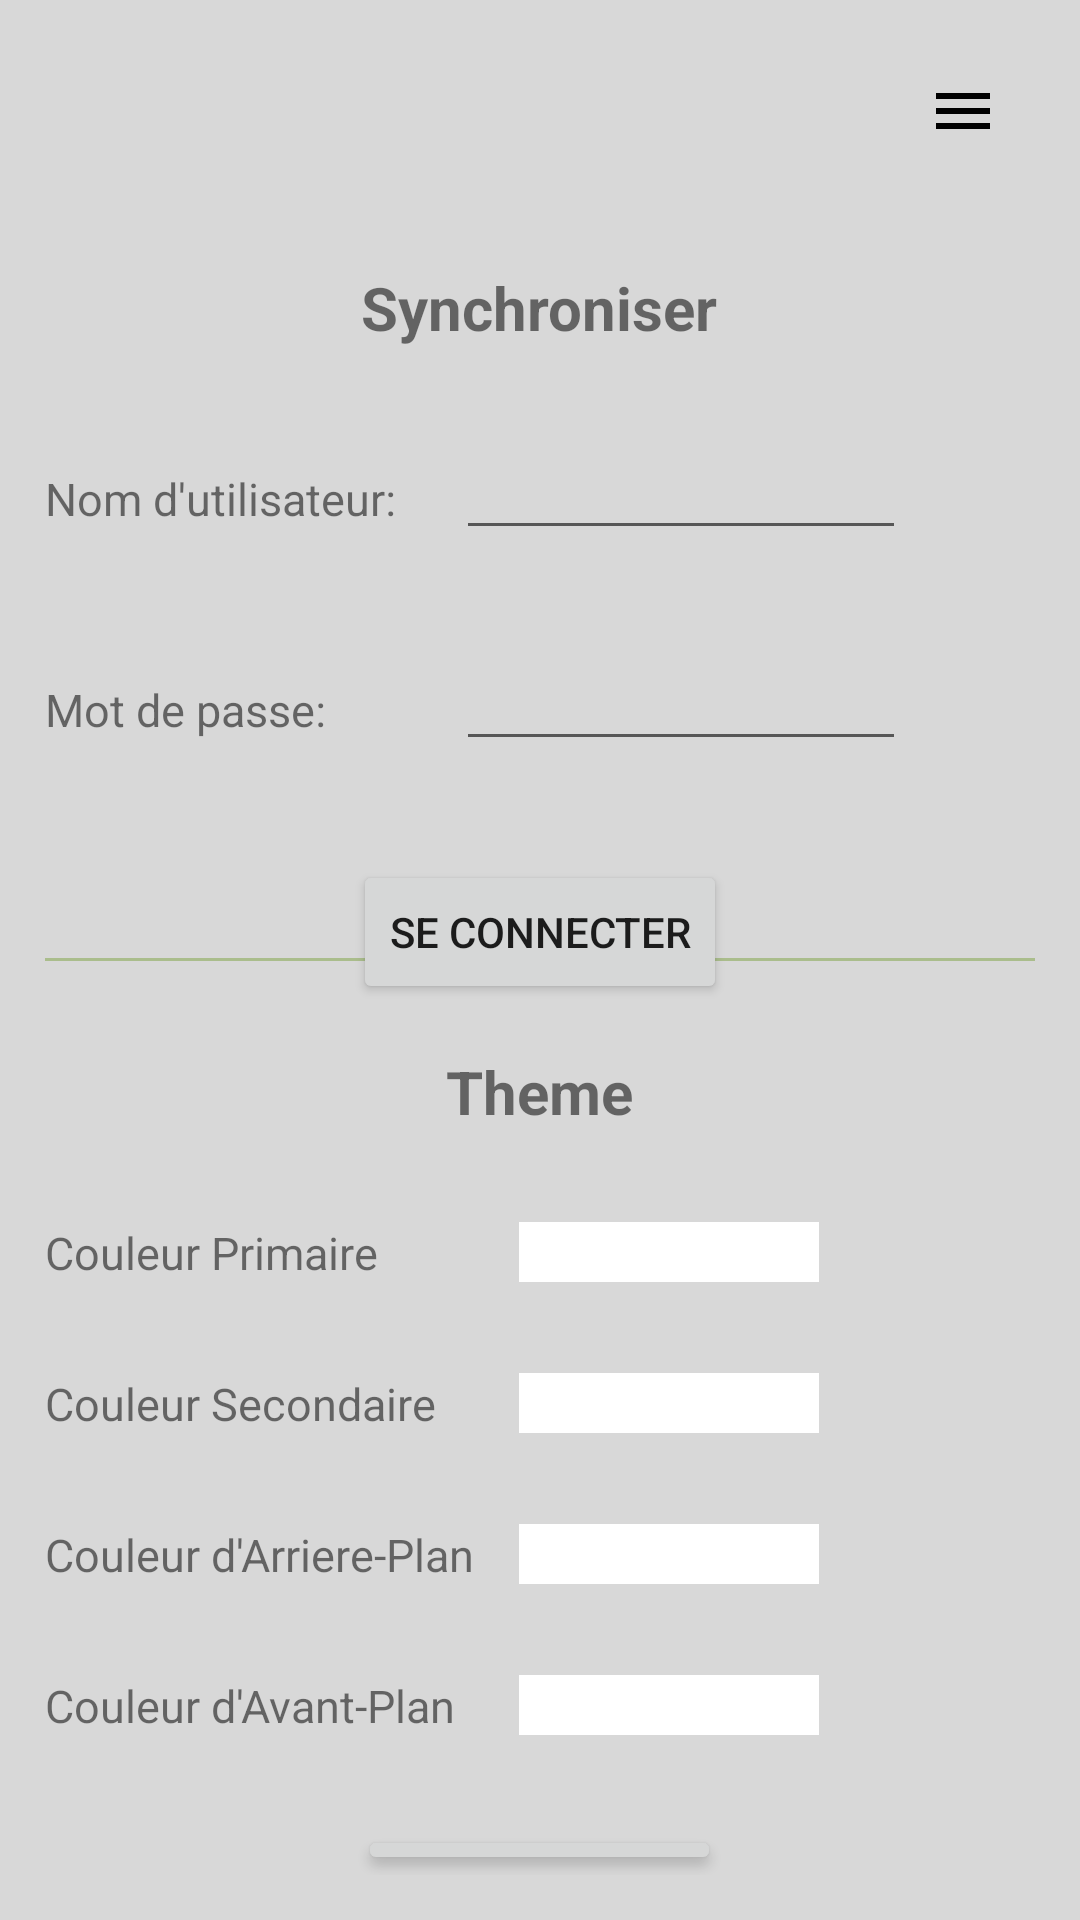

Screen size 1080x1920. Icon name, then its center in pixels as [x,y]:
menu: [963,111]
